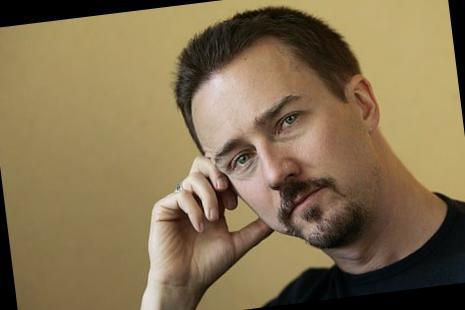Sober: (203, 66, 360, 240)
